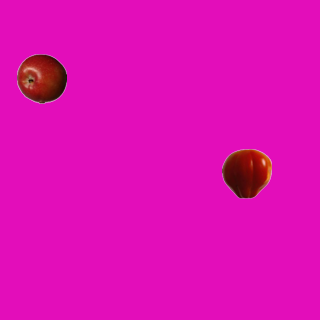Apple Braeburn: (16, 53, 66, 103)
Tomato 1: (221, 148, 271, 198)
